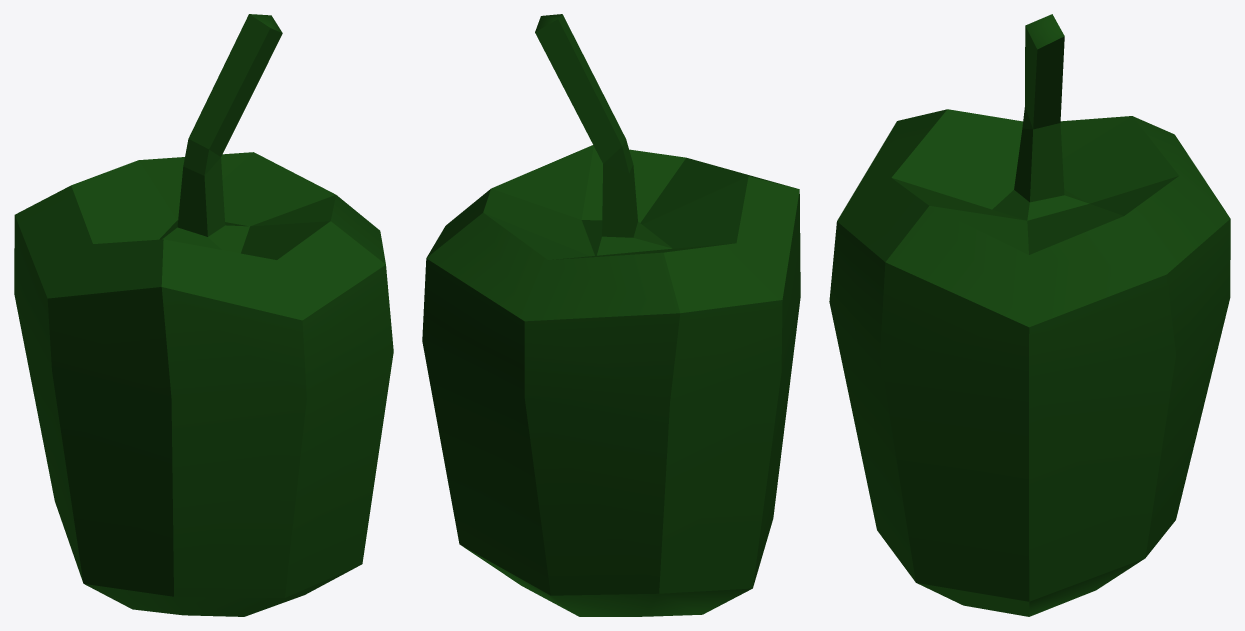
Rendered from food_bellpepper.FBX.
The picture shows the model from 3 angles, left to right: view 1: azimuth 30°, elevation 25°; view 2: azimuth 150°, elevation 25°; view 3: azimuth 270°, elevation 25°; orthographic projection. The views are drawn at different scales.
Parts seen in each view (by area): view 1: food_bellpepper; view 2: food_bellpepper; view 3: food_bellpepper.
Part boxes in pixels (box(x1,y1,x2,y2)): food_bellpepper: box(14, 14, 393, 616); food_bellpepper: box(422, 14, 800, 616); food_bellpepper: box(829, 14, 1230, 616).
Size of the model in its own units: 68.78 by 111 by 68.61.
